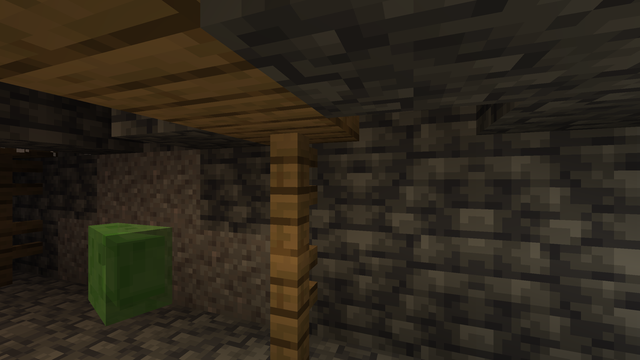slimes: (73, 220, 173, 324)
